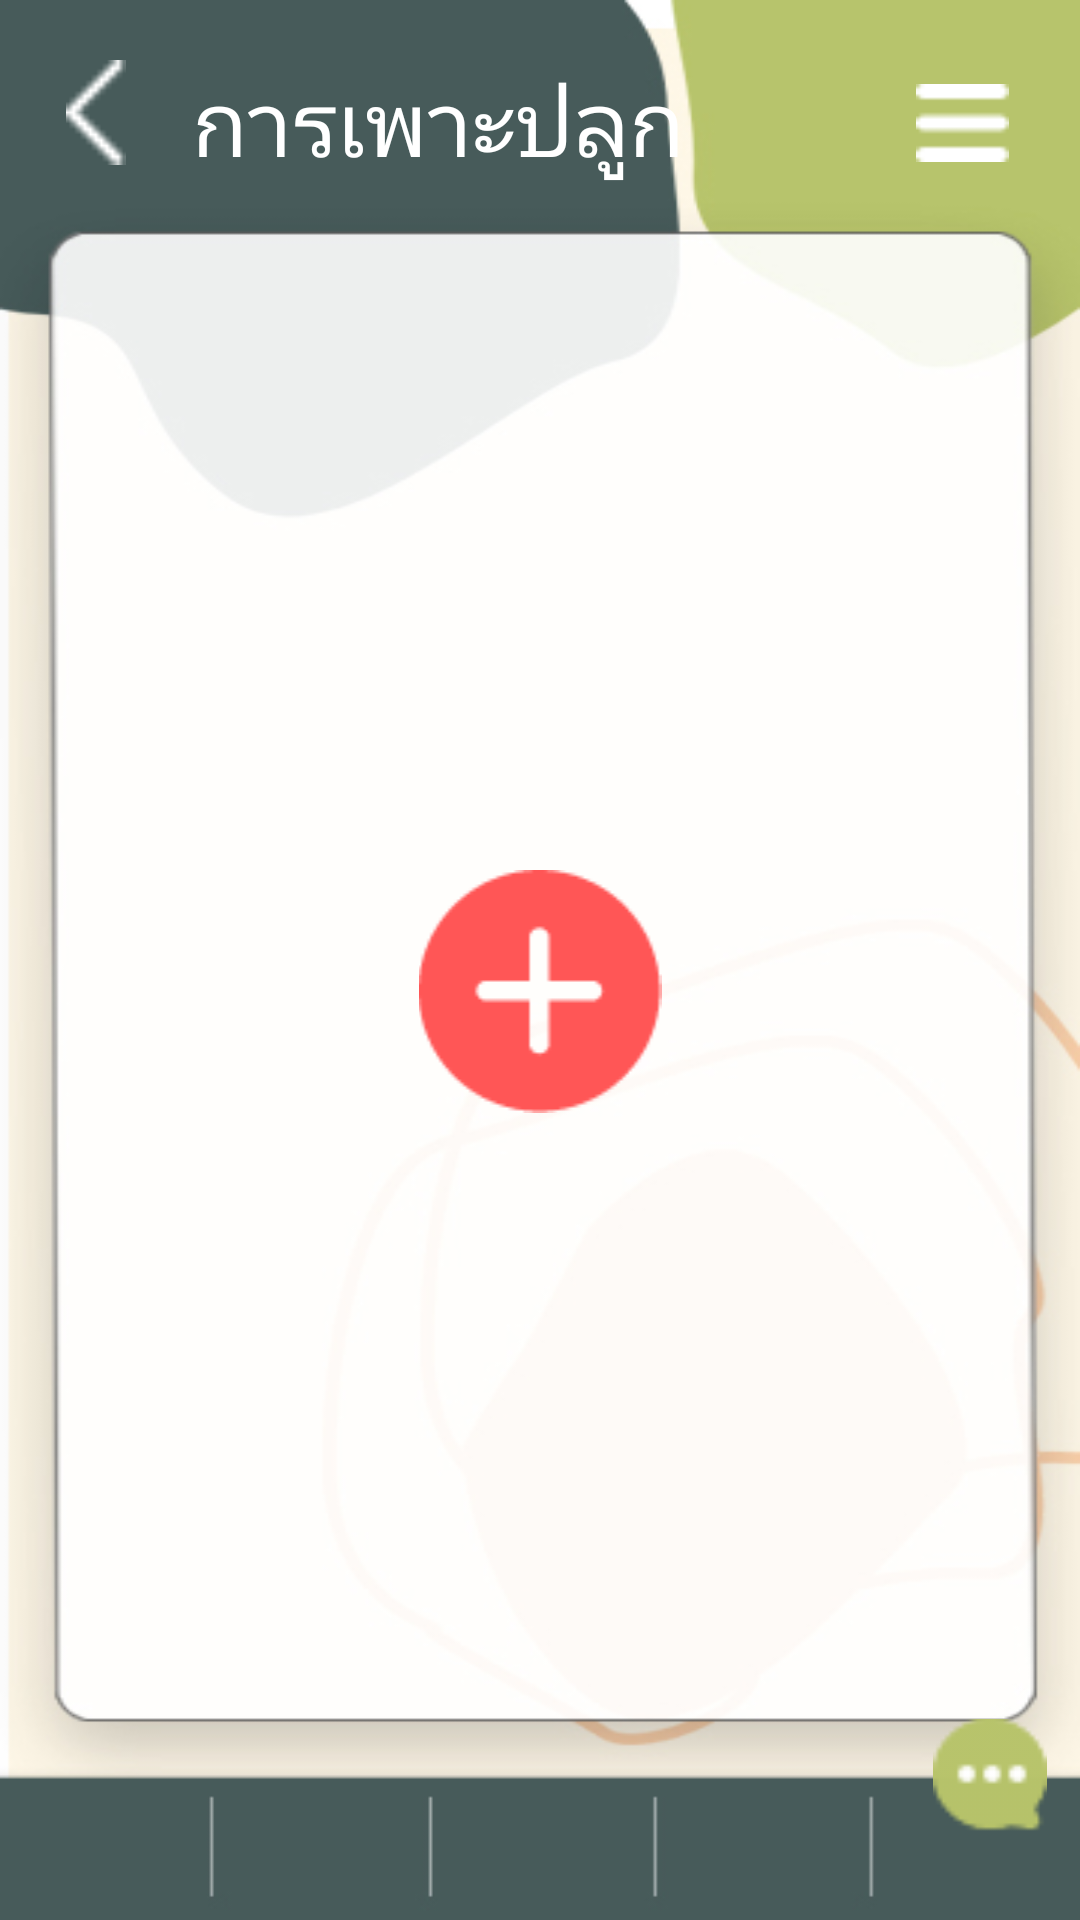

Screen size 1080x1920. Icon name, then its box in pixels as bbox(x1, y1, x2, y2):
menusymbol: bbox(916, 84, 1009, 162)
plus: bbox(419, 870, 662, 1113)
